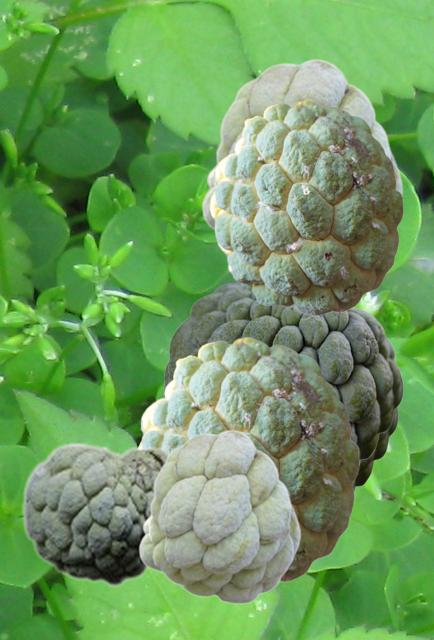atis: (137, 337, 358, 584), (166, 282, 402, 466), (209, 100, 402, 314), (201, 58, 402, 230), (161, 362, 397, 491), (138, 429, 300, 603), (21, 441, 171, 586)
